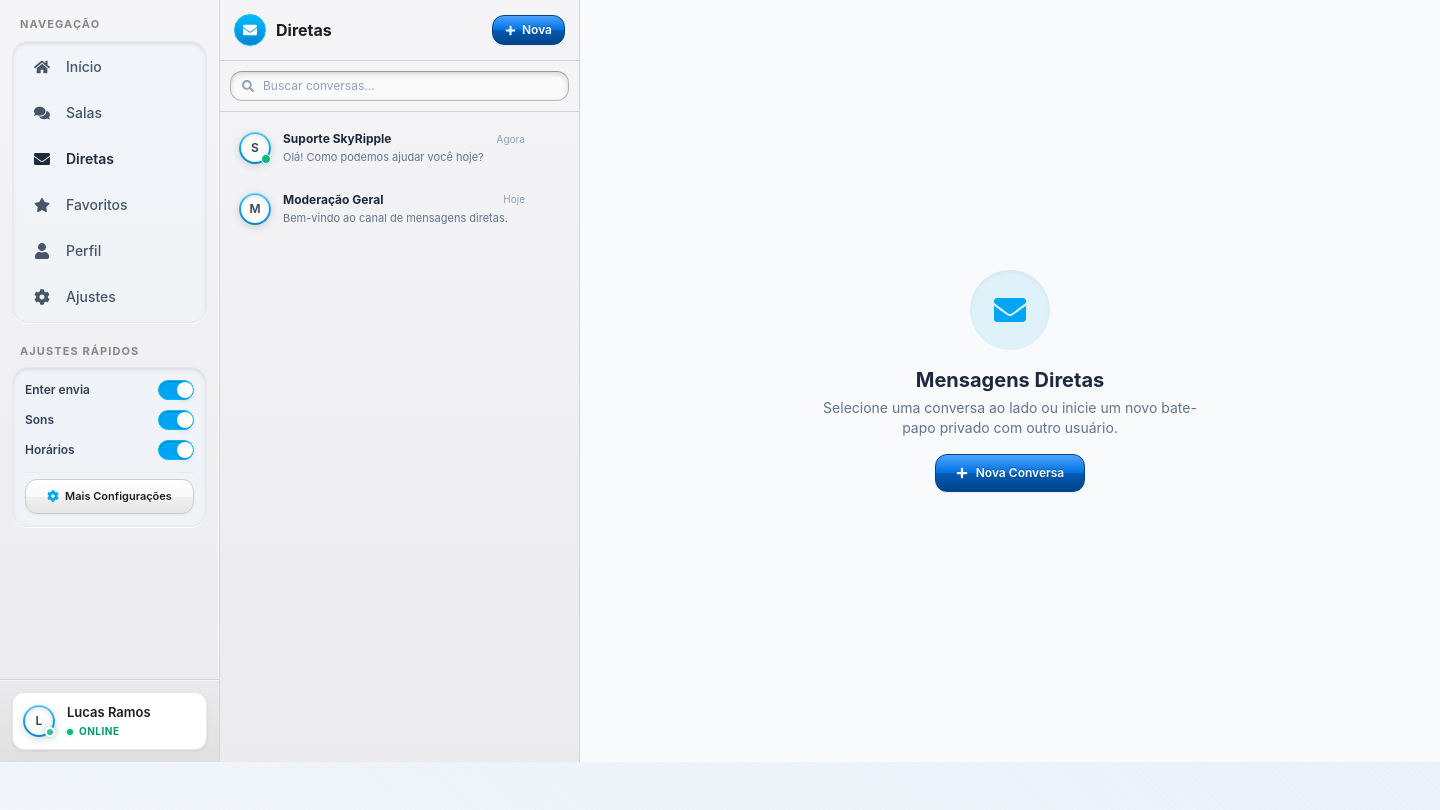
Scenario: Directs Page Tests › permite abrir o modal de nova conversa e criar um novo contato
Click the button titled "Nova Mensagem Direta".
click(528, 30)  # box [492,15,565,45]
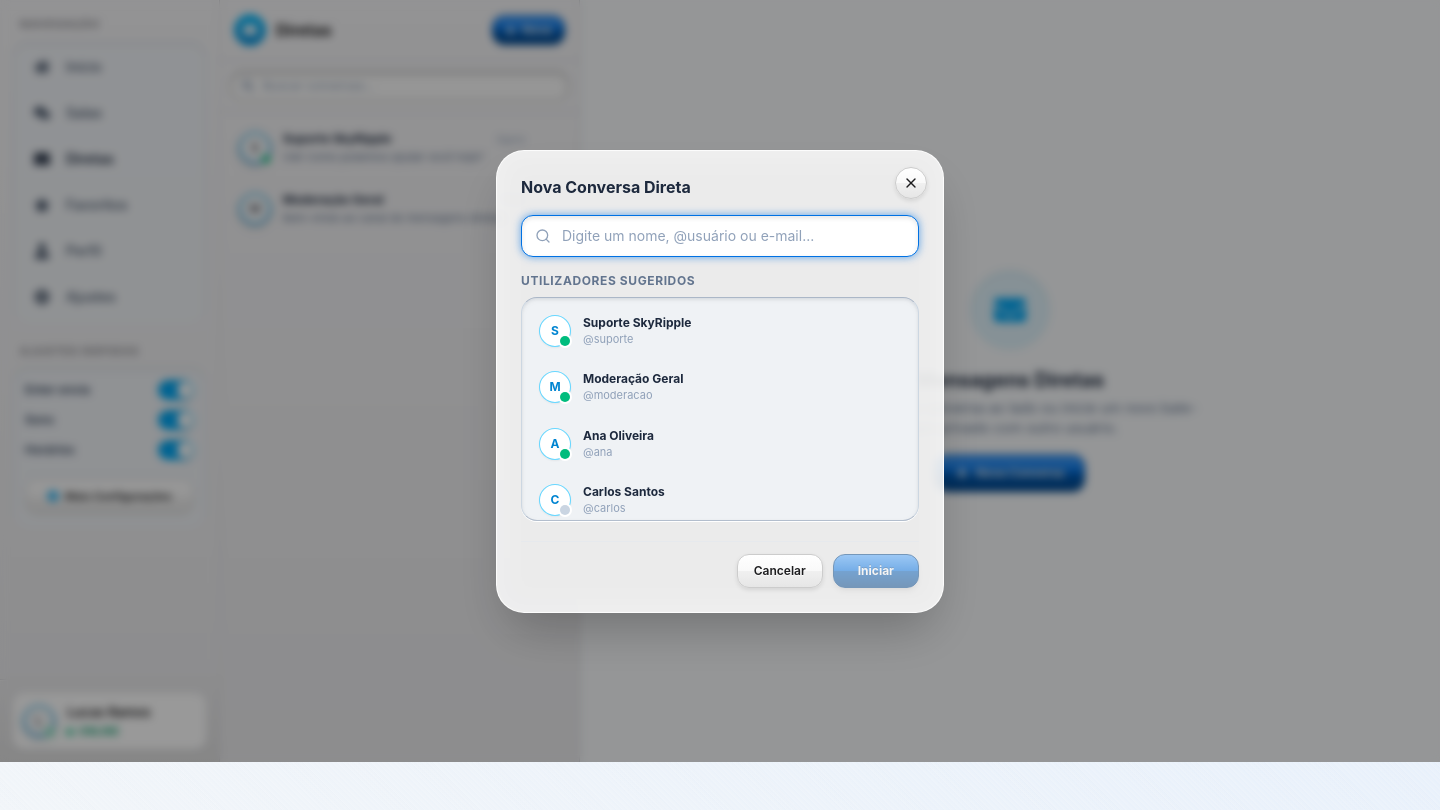
Result: the heading "Nova Conversa Direta" is shown at [521,176,691,196]
Type "Beatriz" into the field with placeholder "Digite um nome, @usuário ou e-mail...".
click(720, 236); type("Beatriz")  # box [521,214,919,256]
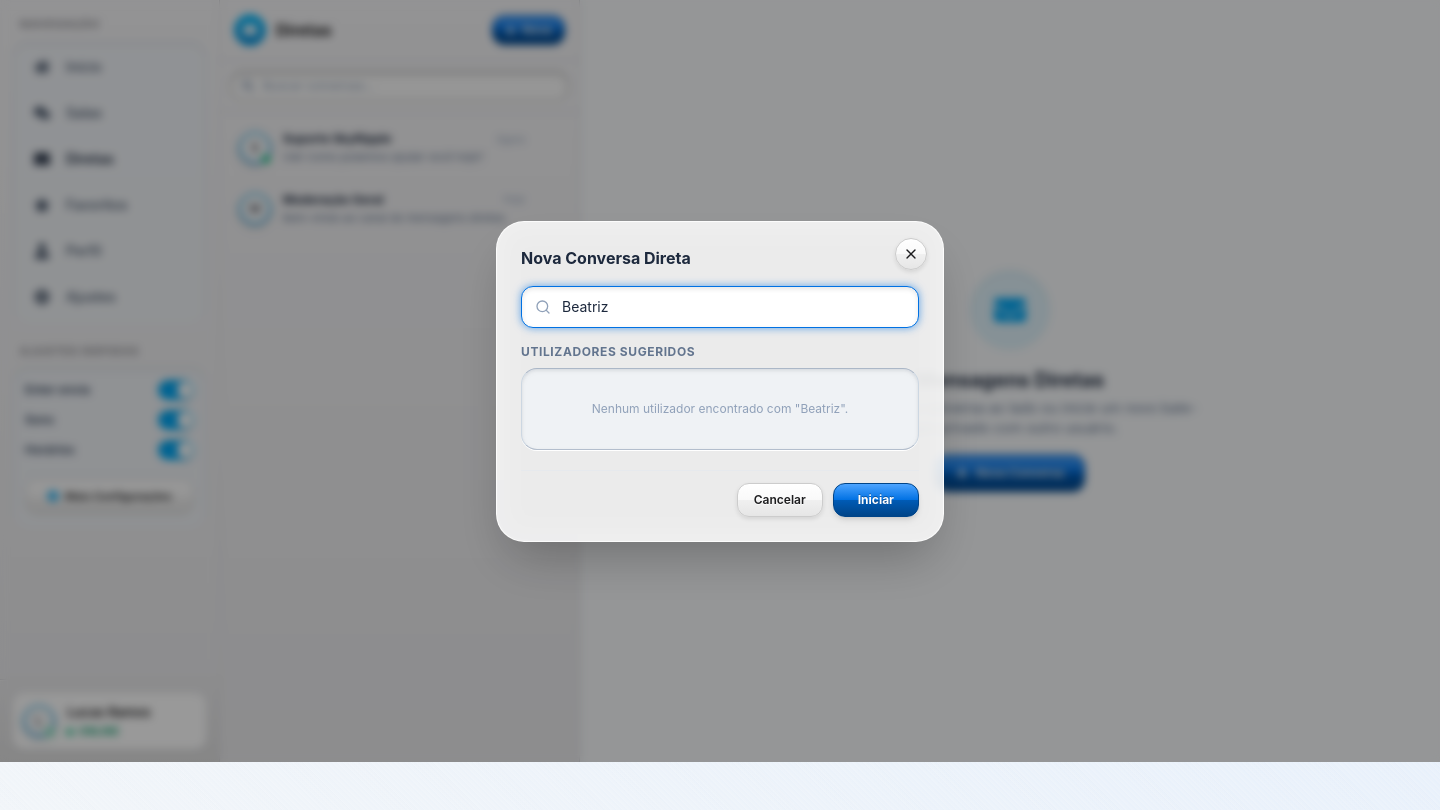
Click the button "Iniciar".
click(876, 500)  # box [833,482,919,516]
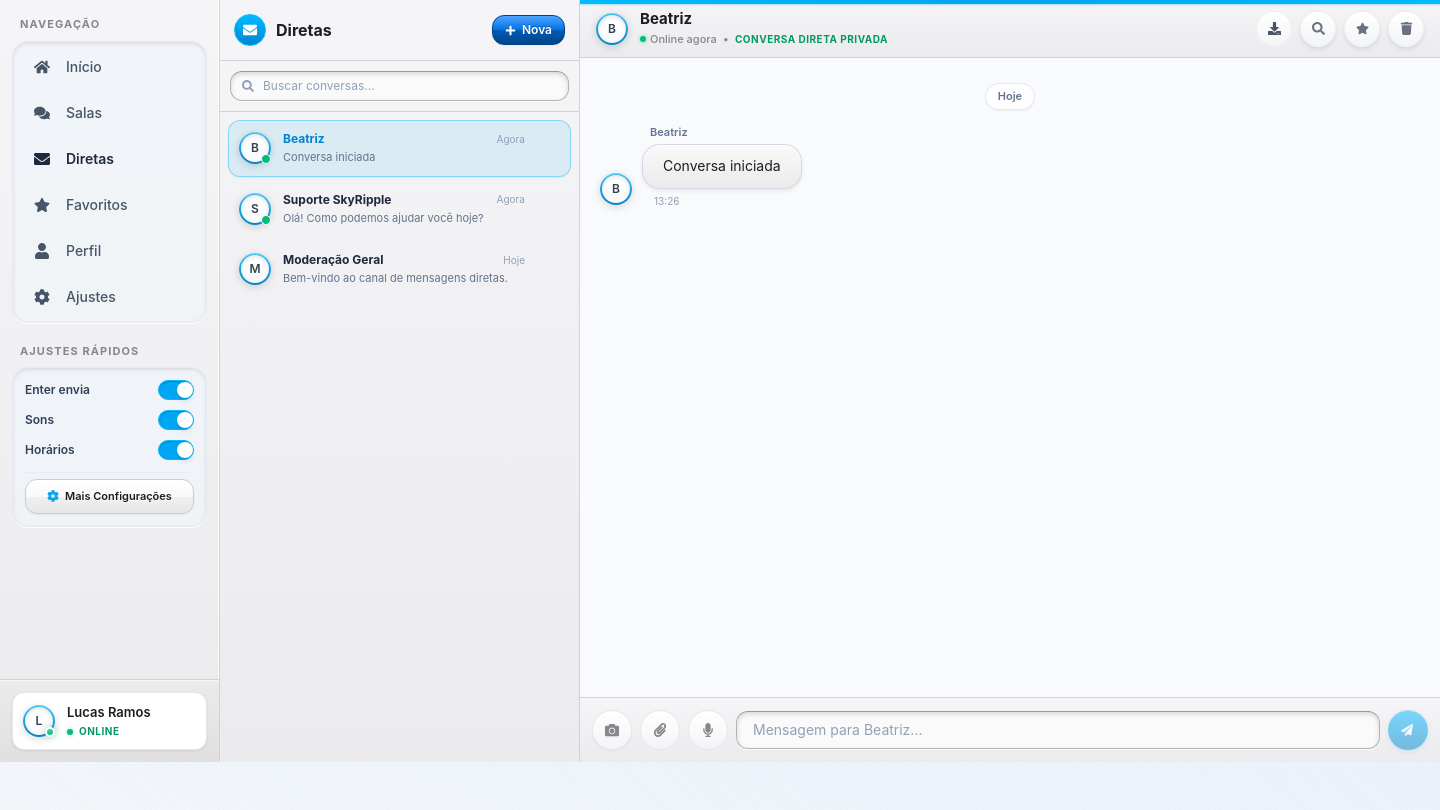
Result: the 2nd heading "Beatriz" is shown at [283,131,325,147]
Result: the field with placeholder "Mensagem para Beatriz..." is shown at [736,711,1380,749]
